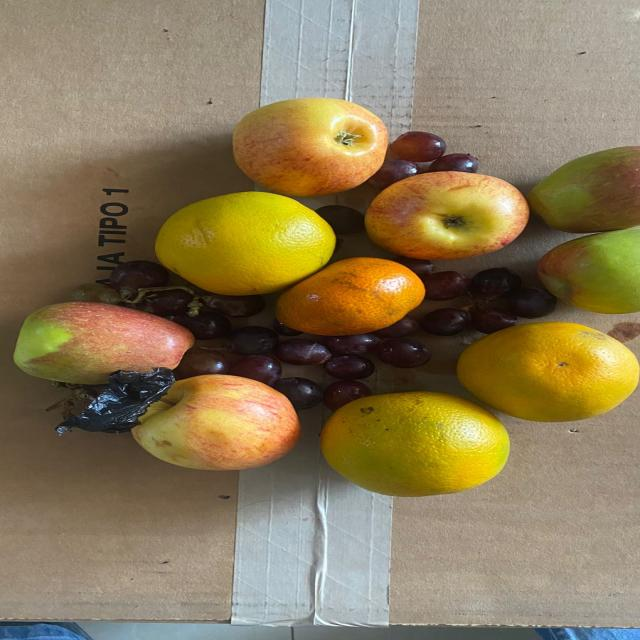bolsa_negra: (69, 362, 177, 435)
